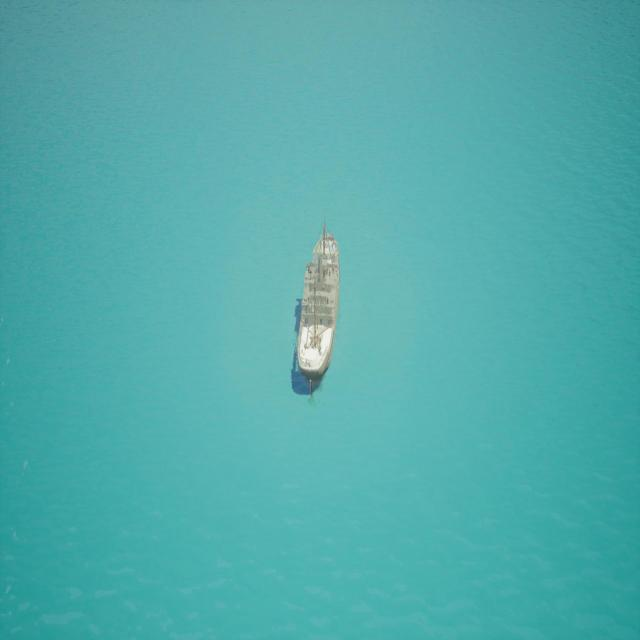fishing ship: (294, 214, 342, 403)
